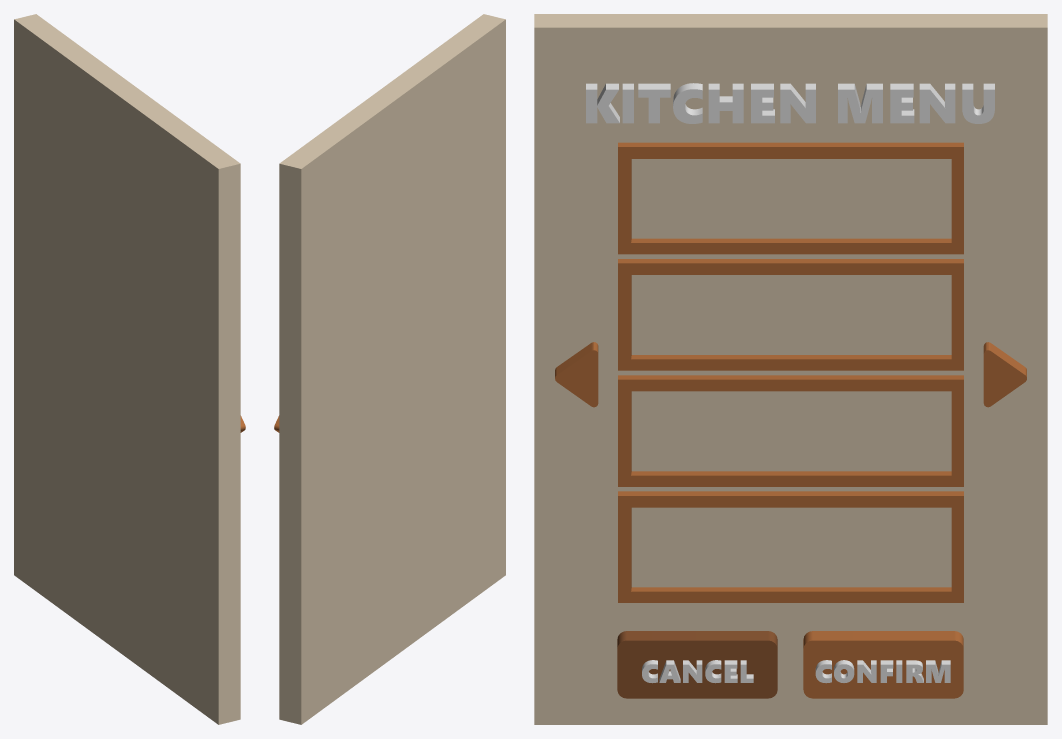
File: kitchenMenu.fbx
3 renders of one model, left to right at view 1: azimuth 30°, elevation 25°; view 2: azimuth 150°, elevation 25°; view 3: azimuth 270°, elevation 25°, orthographic. The views are drawn at different scales.
Parts seen in each view (by area): view 1: directionalLight2; view 2: directionalLight2; view 3: directionalLight2.
Boxes of the visible parts, box(x1,y1,x2,y2) form: directionalLight2: box(14, 14, 245, 724); directionalLight2: box(274, 14, 505, 724); directionalLight2: box(534, 14, 1047, 724).
Size of the model in its own units: 1 by 12 by 8.
